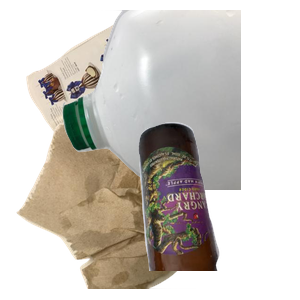glass: (136, 120, 300, 300)
paper: (24, 10, 235, 190)
plastic: (60, 10, 300, 190)
trash: (14, 120, 222, 300)
